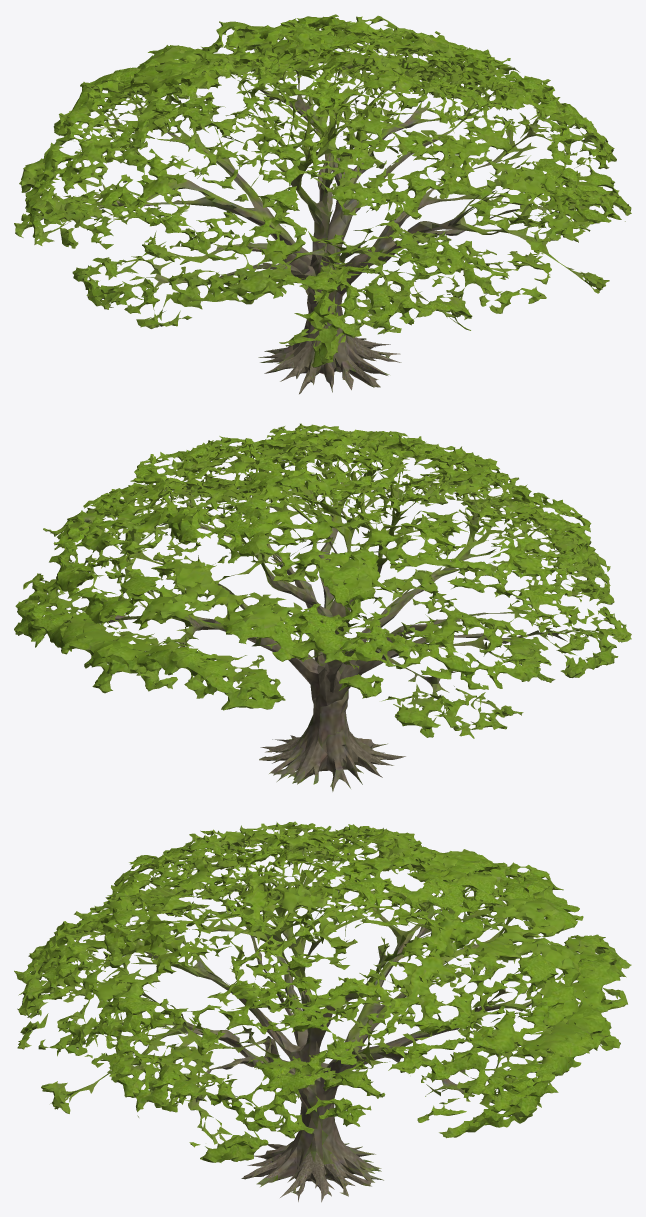
The model's file is e4raintreehd.glb.
3 views of the same model, one above another, from view 1: azimuth 30°, elevation 25°; view 2: azimuth 150°, elevation 25°; view 3: azimuth 270°, elevation 25° (orthographic). The views are drawn at different scales.
Visible parts, largest first — view 1: output_unwrapped; view 2: output_unwrapped; view 3: output_unwrapped.
Part boxes in pixels (box(x1,y1,x2,y2)): output_unwrapped: box(14, 14, 631, 394); output_unwrapped: box(14, 423, 631, 791); output_unwrapped: box(14, 821, 631, 1202).
Size of the model in its own units: 1.75 by 0.9999 by 1.75.
1 material, 1 textured.
